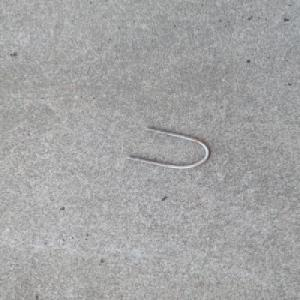ClampPart: (124, 125, 214, 169)
